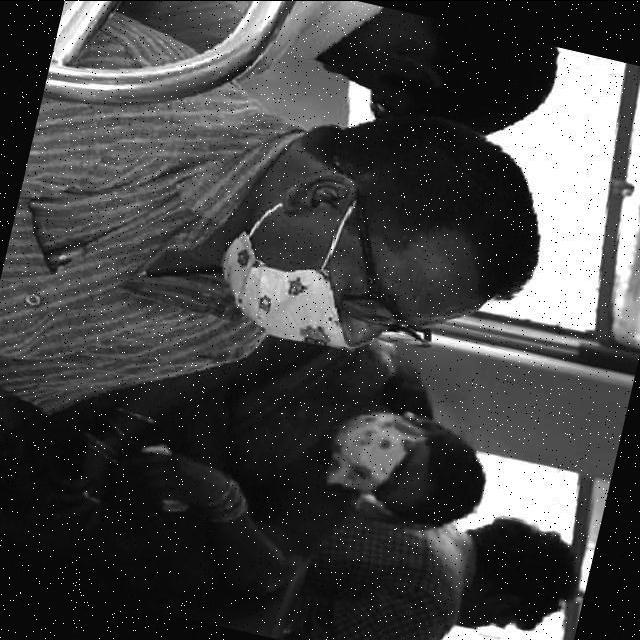mask: (238, 244, 336, 352), (332, 420, 396, 488)
no_gloves: (428, 155, 538, 277), (457, 30, 551, 114), (497, 536, 568, 620), (435, 432, 483, 526)
